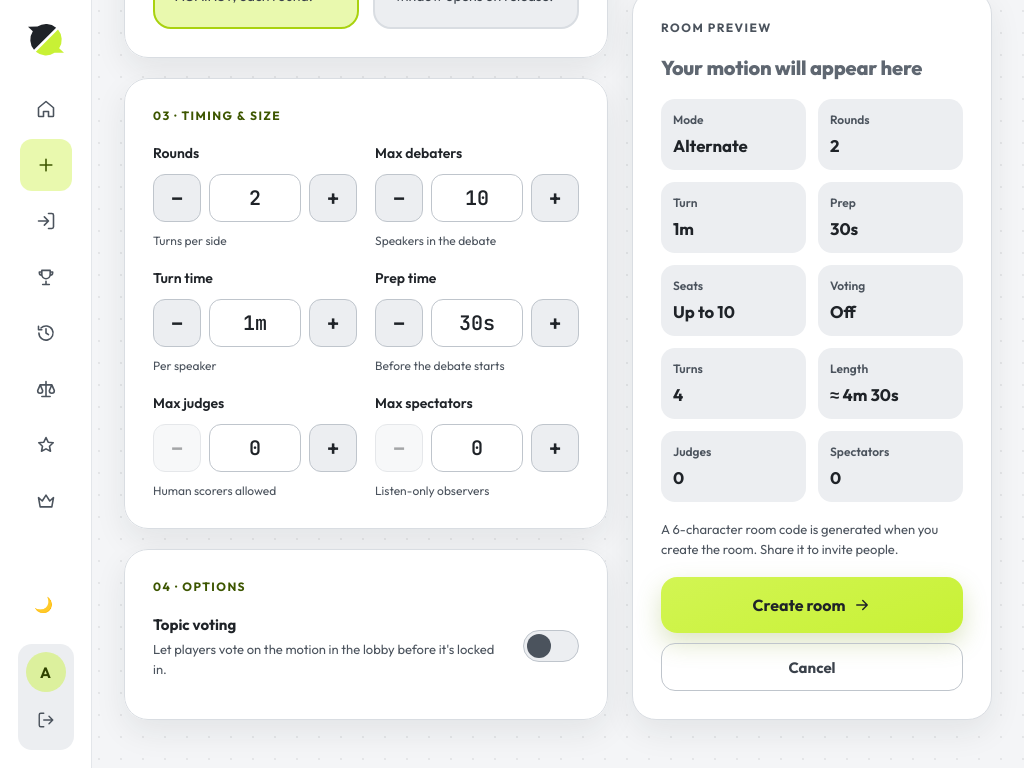
Test case: CreateRoom › voting toggle › toggling voting off hides the topic inputs and restores text input
The width and height of the screenshot is (1024, 768).
(page scrolled)
Toggle on
Click the switch named "Topic voting". click: (551, 646)
box: [523,630,579,662]
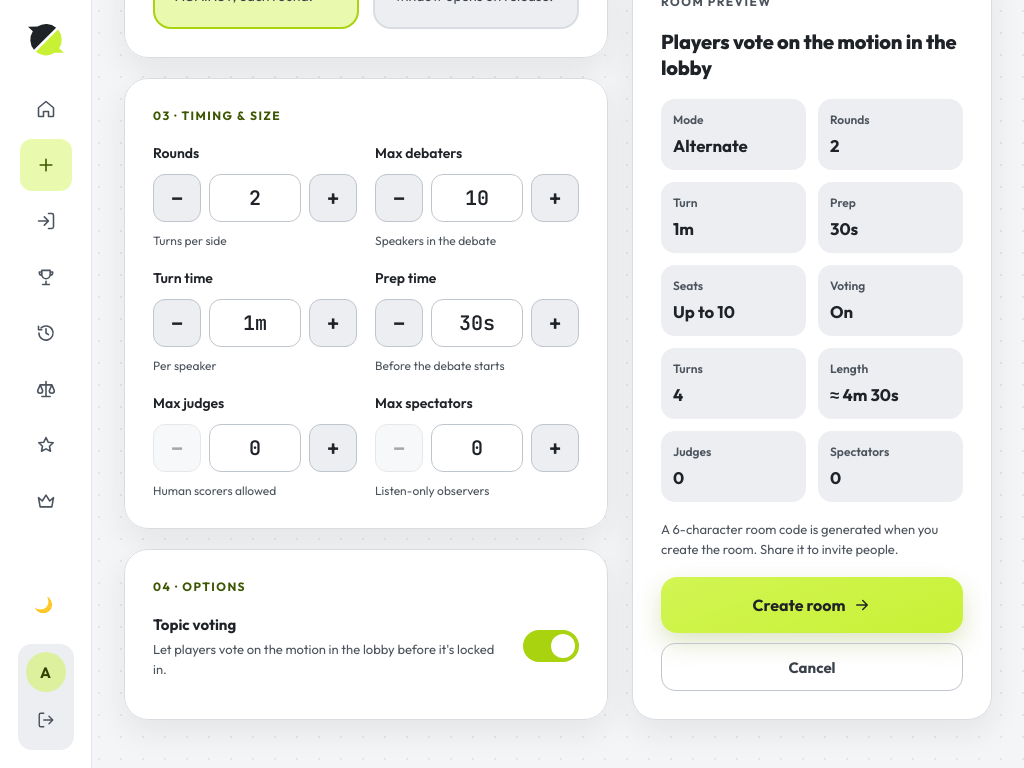
Toggle off
Click the switch named "Topic voting". click: (551, 646)
box: [523,630,579,662]
(page scrolled)
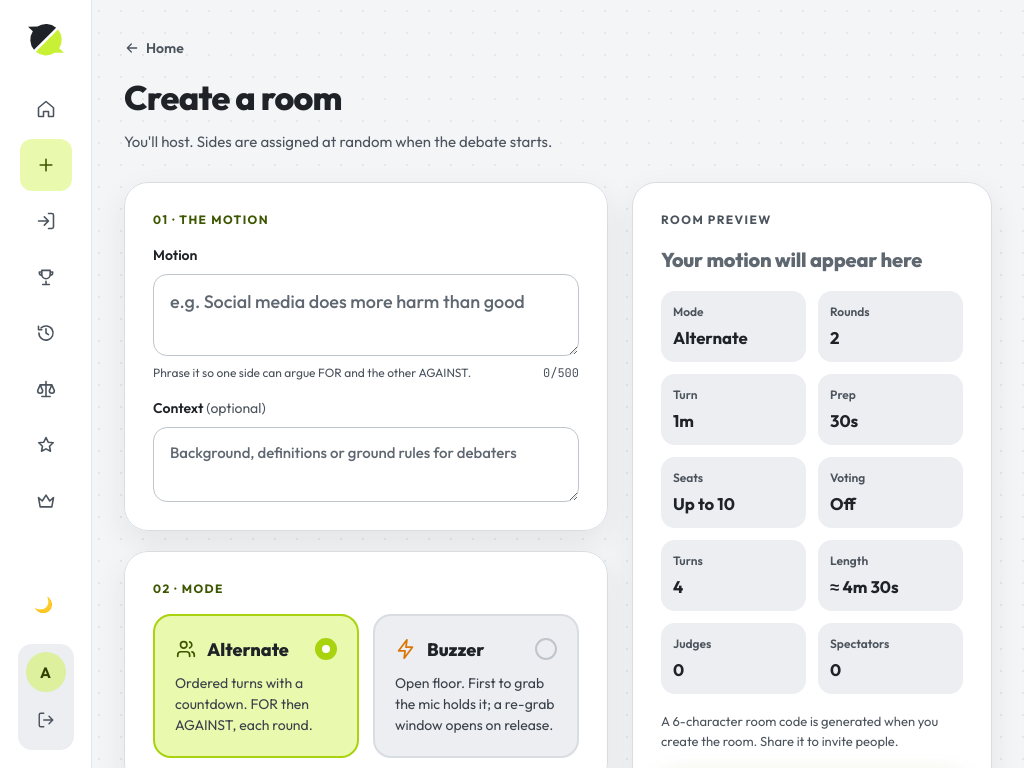
Expected: the text box with placeholder "e.g. Social media does more harm than good" is shown, [153,274,579,356]
